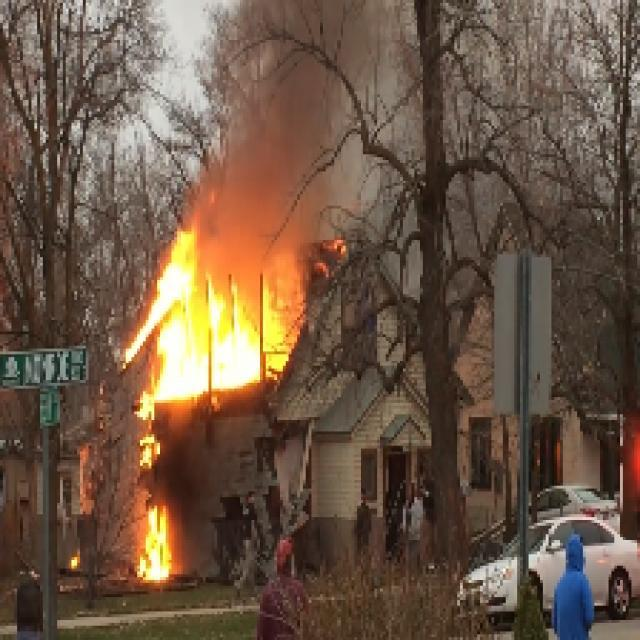Fire: (132, 238, 300, 570)
Smoke: (226, 2, 352, 222)
